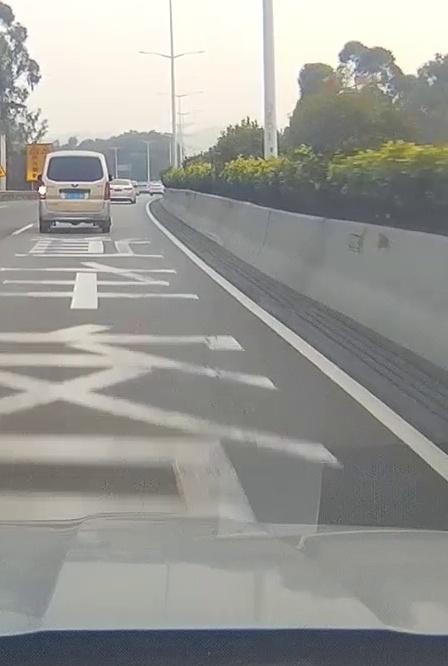L_light: (39, 181, 46, 199)
R_light: (104, 181, 110, 200)
T_light: (69, 154, 81, 157)
day-left: (38, 150, 110, 232)
